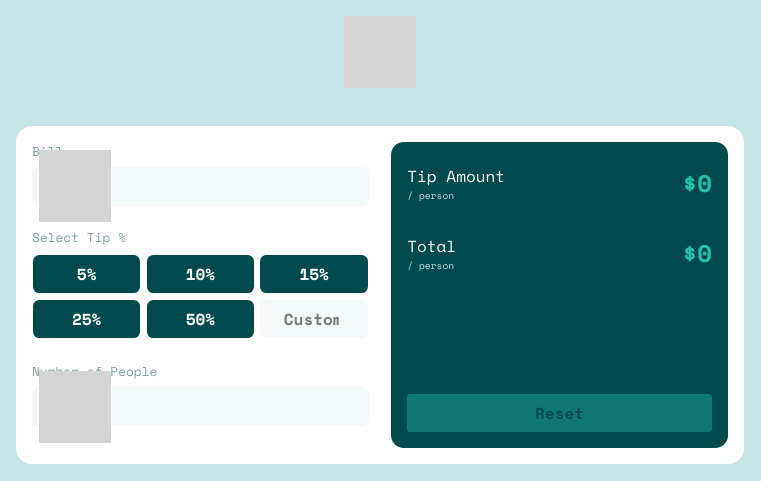
Scenario: make a calc with manual tip
Type "100" into the number field below "Bill" at (200, 186), box top-left (39, 174), bottom-right (361, 198)
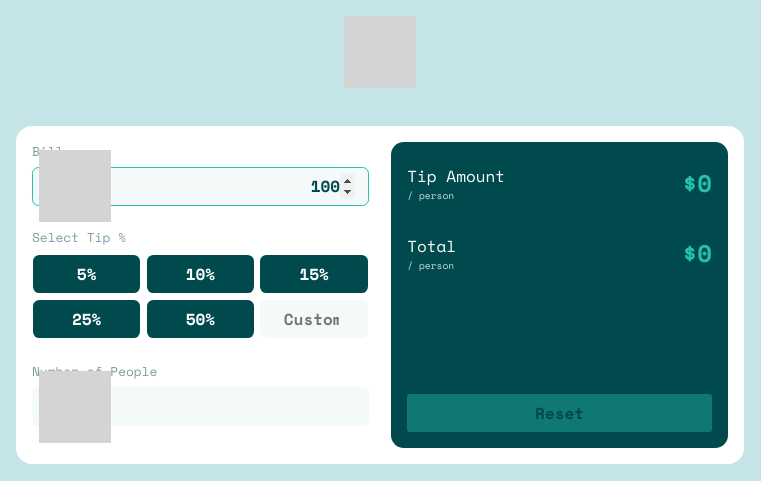
Type "10" into the number field with placeholder "Custom" at (315, 319), box top-left (268, 307), bottom-right (361, 331)
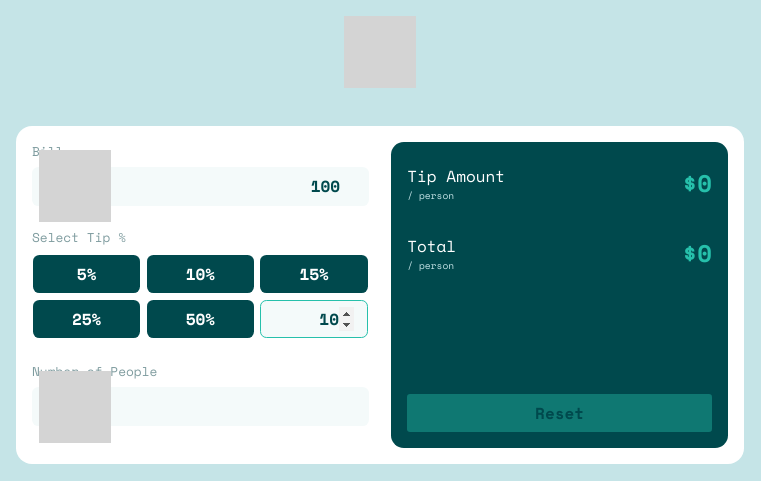
Type "2" into the number field below "Number of People" at (200, 407), box top-left (39, 395), bottom-right (361, 419)
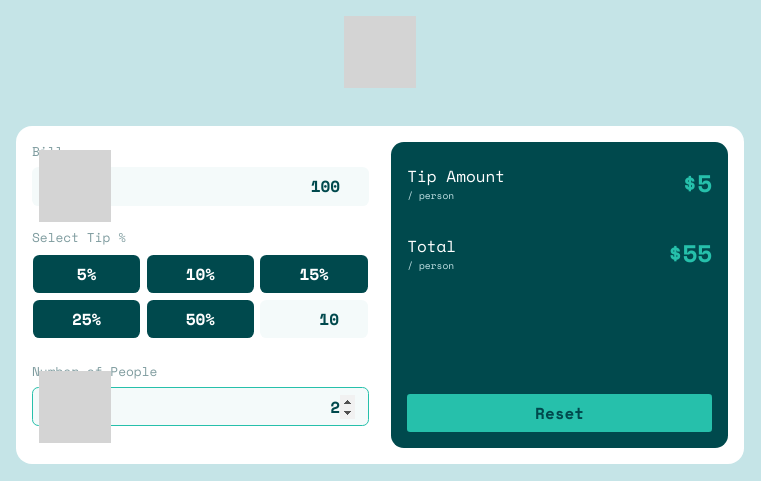
Result: the text with id "tipAmount" reads "5" at top-left (697, 165), bottom-right (712, 201)
Result: the text with id "totalValue" reads "55" at top-left (683, 235), bottom-right (712, 271)
